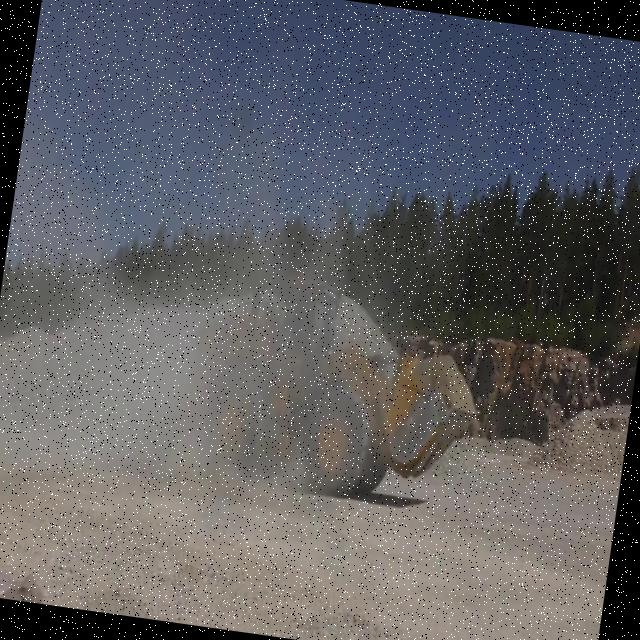Loader: (171, 235, 504, 522)
